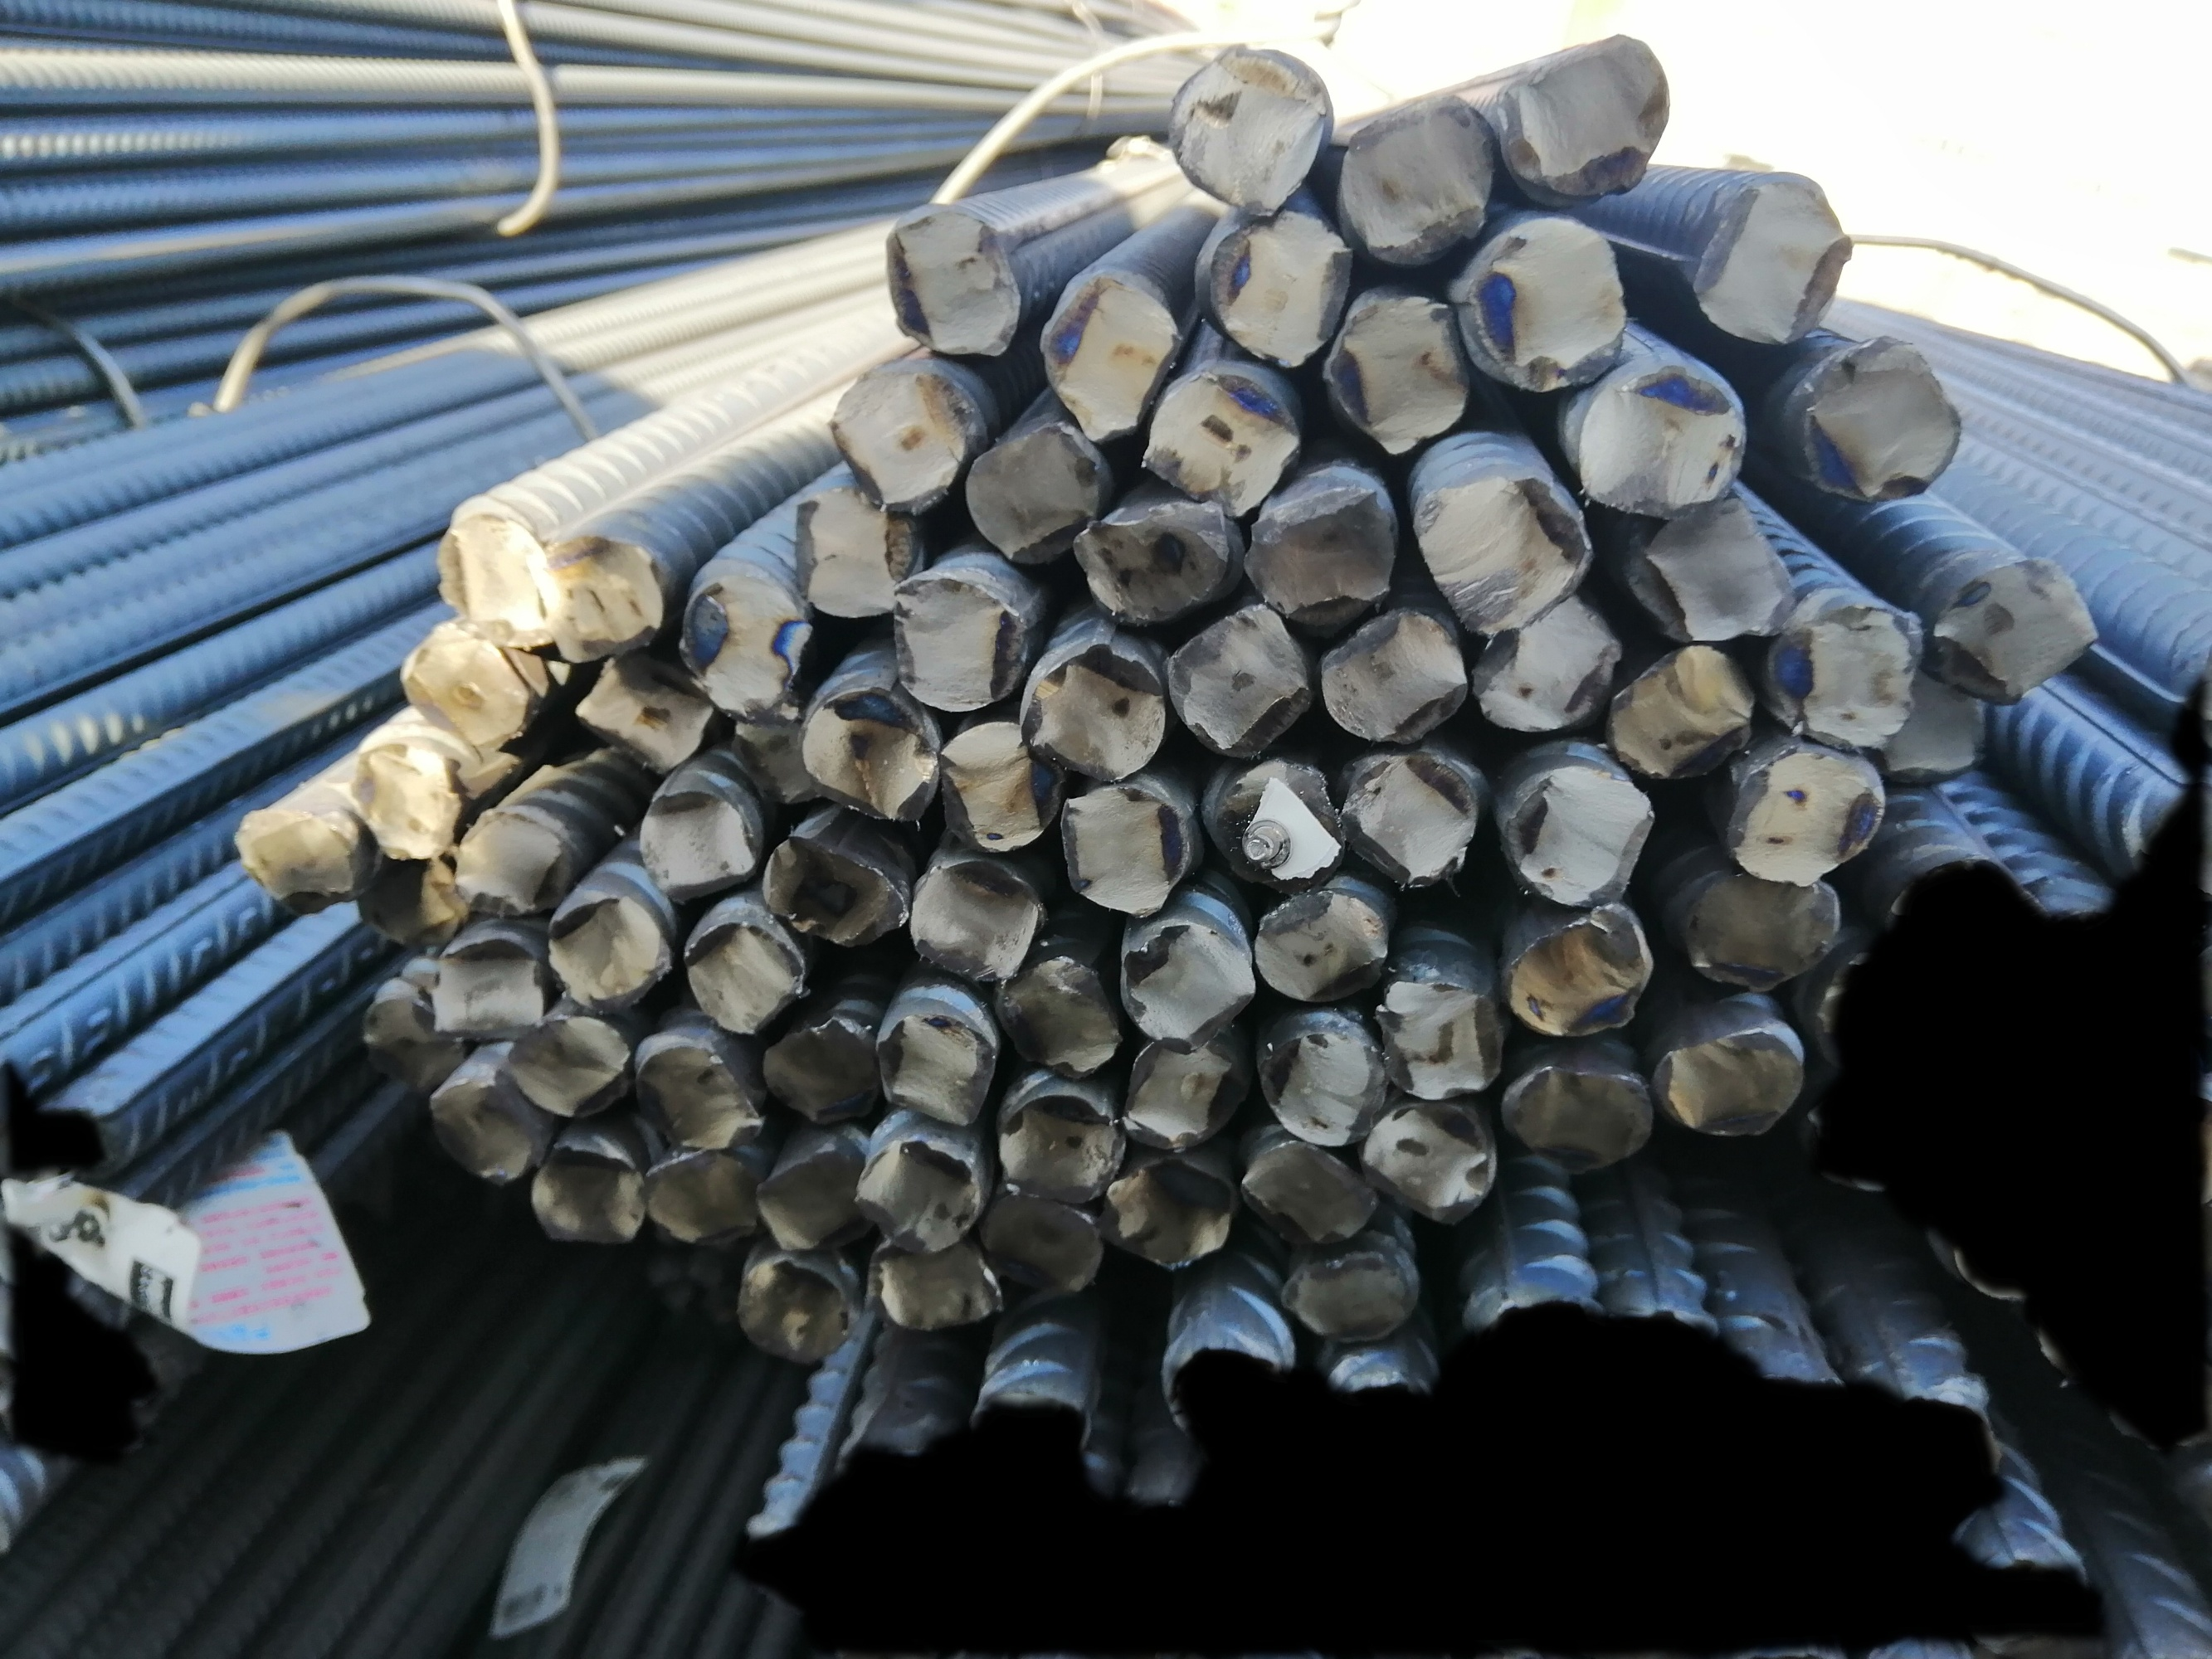rebar: (1454, 216, 1639, 392), (1679, 174, 1856, 354), (1415, 472, 1604, 636), (1337, 92, 1503, 270), (1623, 484, 1799, 648), (1170, 51, 1333, 218), (1196, 204, 1354, 371), (1804, 349, 1971, 507), (1576, 364, 1747, 516), (1517, 31, 1670, 197), (1327, 291, 1471, 465), (873, 563, 1034, 720), (1931, 558, 2102, 704), (1032, 274, 1177, 444), (1731, 737, 1886, 896), (1145, 368, 1306, 519), (880, 202, 1027, 362), (831, 364, 980, 519), (1471, 598, 1637, 735), (1168, 605, 1313, 762), (960, 418, 1109, 570), (793, 685, 947, 831), (1771, 598, 1917, 751), (1241, 488, 1407, 622), (427, 505, 573, 652), (1508, 767, 1658, 910), (1316, 605, 1468, 746), (1607, 648, 1759, 789), (1020, 647, 1171, 786), (1344, 742, 1483, 894), (1072, 502, 1236, 631), (1048, 781, 1198, 918), (1252, 1007, 1393, 1152), (1204, 751, 1347, 890), (933, 709, 1067, 857), (570, 640, 718, 772), (396, 620, 535, 760), (793, 486, 929, 627), (1874, 626, 1996, 782), (1117, 911, 1257, 1047), (682, 570, 812, 709), (1506, 917, 1652, 1039), (535, 538, 669, 671), (1693, 871, 1849, 985), (1089, 1155, 1243, 1270), (978, 1182, 1105, 1319), (758, 833, 910, 948), (1506, 1061, 1656, 1175), (906, 859, 1037, 988), (851, 1136, 987, 1260), (1368, 1103, 1503, 1227), (628, 1035, 767, 1154), (1654, 1030, 1801, 1141), (994, 948, 1119, 1077), (342, 732, 462, 864), (1236, 1136, 1381, 1244), (1382, 974, 1511, 1094), (539, 896, 669, 1014), (1114, 1037, 1252, 1148), (227, 802, 370, 908), (638, 781, 762, 901), (514, 1138, 652, 1244), (1250, 894, 1382, 1002), (875, 1011, 997, 1127), (995, 1098, 1128, 1204), (868, 1236, 1013, 1331), (682, 922, 804, 1035), (638, 1141, 760, 1255), (502, 1016, 631, 1122), (750, 1141, 872, 1251), (1283, 1237, 1410, 1342), (424, 1070, 535, 1188), (349, 840, 467, 950), (450, 807, 570, 915), (725, 681, 831, 803), (357, 985, 467, 1100), (739, 1253, 847, 1370), (762, 1016, 879, 1124), (438, 939, 551, 1039)
